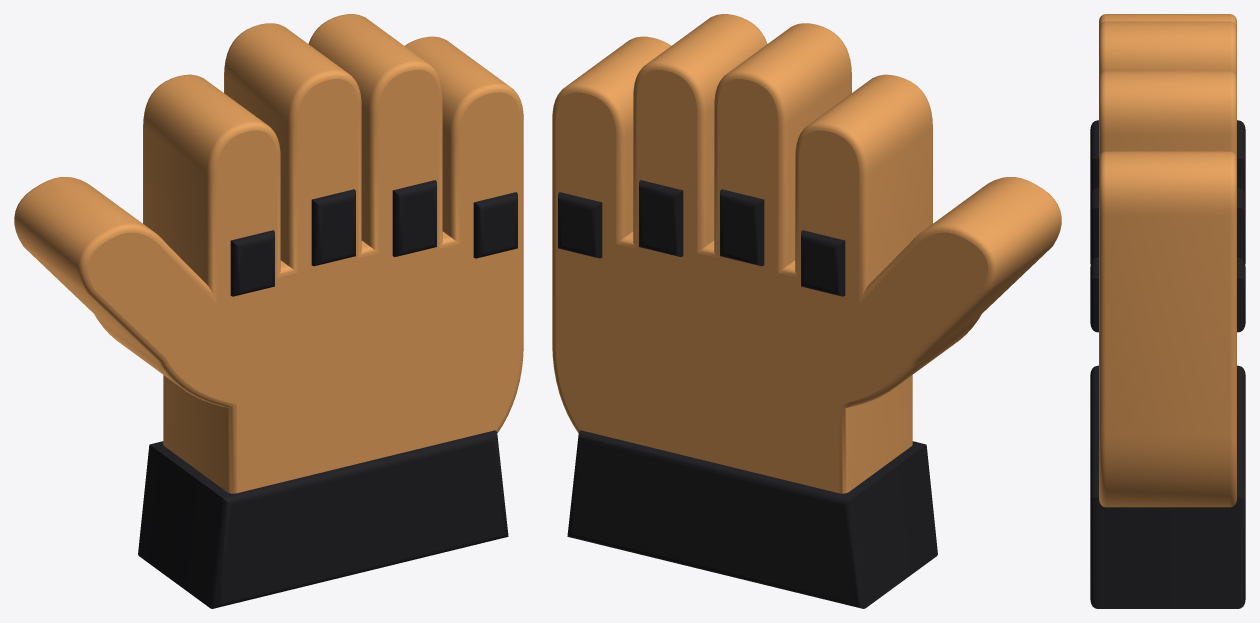
File: gloves.glb
3 renders of one model, left to right at view 1: azimuth 30°, elevation 25°; view 2: azimuth 150°, elevation 25°; view 3: azimuth 270°, elevation 25°, orthographic.
Visible parts, largest first — view 1: paint_0, dark_1, dark_2; view 2: paint_0, dark_1, dark_2; view 3: paint_0, dark_1, dark_2.
Boxes of the visible parts, x1,y1,x2,y2 form: paint_0: [14, 14, 523, 493]; dark_1: [138, 430, 508, 608]; dark_2: [230, 180, 517, 296]; paint_0: [552, 14, 1061, 493]; dark_1: [567, 430, 937, 608]; dark_2: [558, 180, 845, 296]; paint_0: [1099, 14, 1236, 507]; dark_1: [1090, 365, 1245, 608]; dark_2: [1090, 120, 1245, 332].
Bounding box in the file's own units: 87.84 × 95.4 × 27.
